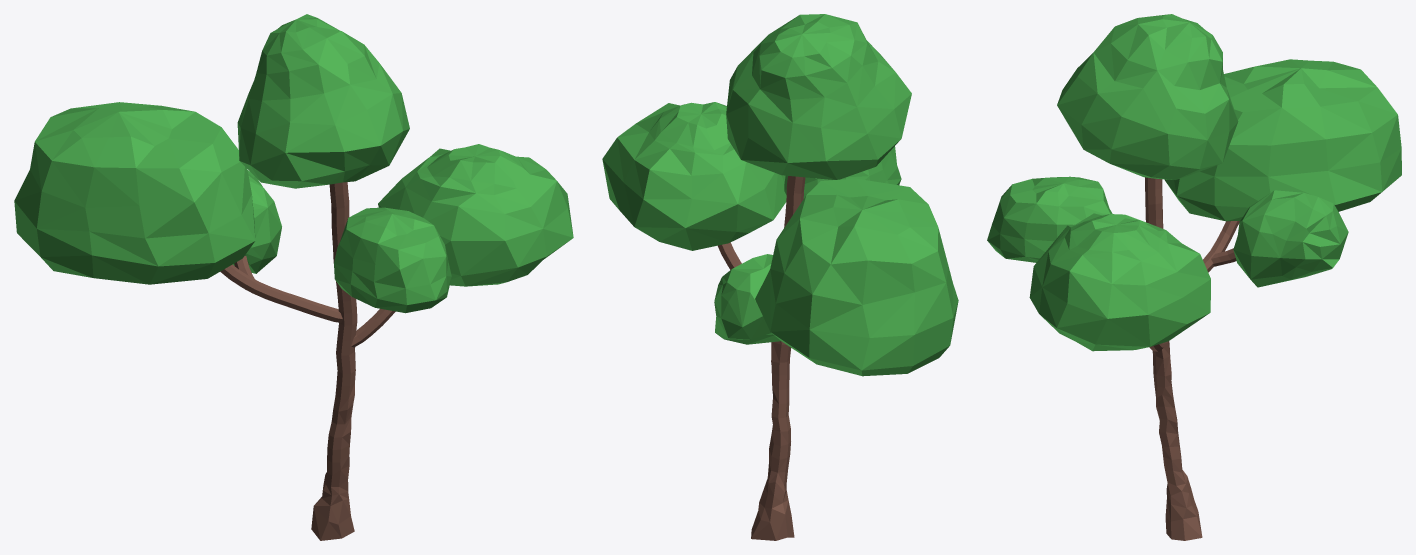
3 views of the same model, side by side, from view 1: azimuth 30°, elevation 25°; view 2: azimuth 150°, elevation 25°; view 3: azimuth 270°, elevation 25° (orthographic). The views are drawn at different scales.
Parts seen in each view (by area): view 1: group_633688206, mesh_604689817, mesh_380981025, group_2077447001, mesh_945474374, group_2007467863, group_1726531404, mesh_244633741; view 2: group_633688206, mesh_604689817, mesh_380981025, mesh_945474374, group_2007467863, group_2077447001, mesh_244633741; view 3: group_633688206, mesh_604689817, mesh_380981025, group_2007467863, group_2077447001, mesh_945474374, mesh_244633741, group_1726531404.
Part boxes in pixels (box(x1,y1,x2,y2)): group_633688206: box(14, 102, 255, 284); mesh_604689817: box(237, 14, 409, 188); mesh_380981025: box(378, 144, 573, 286); group_2077447001: box(334, 207, 451, 313); mesh_945474374: box(311, 322, 357, 540); group_2007467863: box(233, 170, 281, 273); group_1726531404: box(220, 264, 342, 322); mesh_244633741: box(329, 182, 357, 325); group_633688206: box(755, 178, 958, 376); mesh_604689817: box(726, 14, 911, 179); mesh_380981025: box(602, 102, 786, 250); mesh_945474374: box(751, 341, 794, 540); group_2007467863: box(714, 254, 780, 344); group_2077447001: box(784, 146, 901, 198); mesh_244633741: box(784, 176, 805, 227); group_633688206: box(1164, 59, 1401, 221); mesh_604689817: box(1057, 14, 1238, 179); mesh_380981025: box(1029, 213, 1210, 351); group_2007467863: box(1233, 190, 1348, 287); group_2077447001: box(987, 176, 1112, 262); mesh_945474374: box(1152, 341, 1202, 540); mesh_244633741: box(1145, 177, 1163, 228); group_1726531404: box(1203, 221, 1239, 272).
Bounding box in the file's own units: 70.74 × 81.2 × 61.19.
